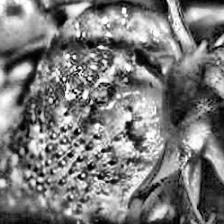Powdery Mildew Fruit: (0, 0, 203, 224)
